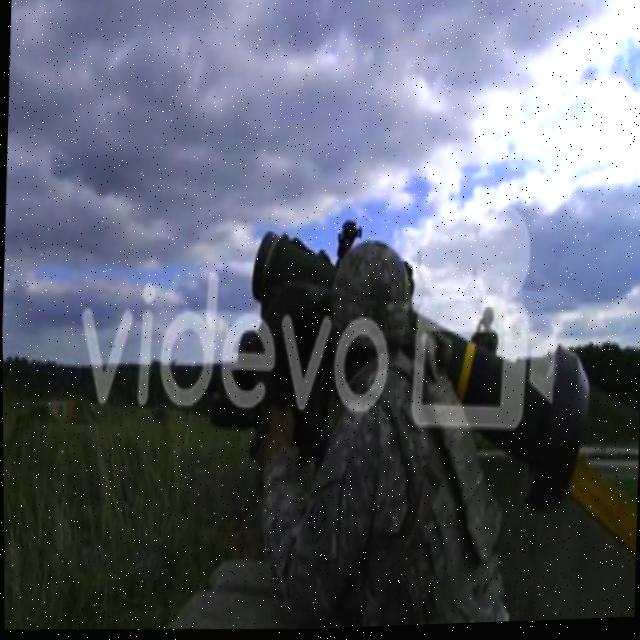rocket: (393, 312, 595, 519)
